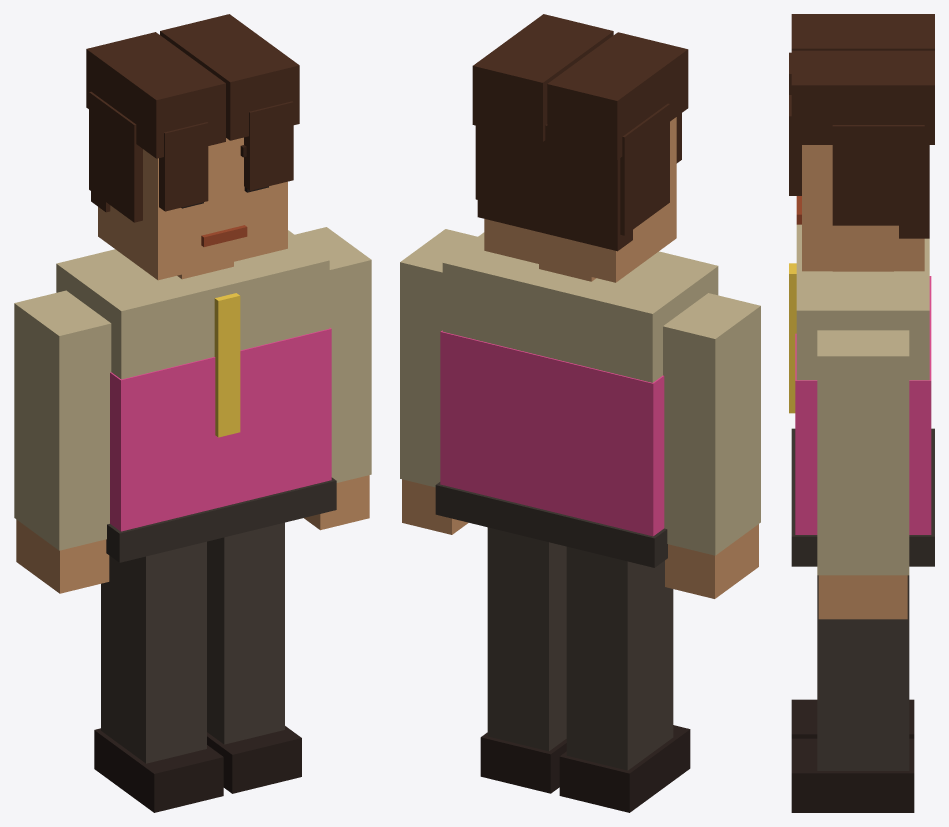
Rendered from middle_home_teacher.glb.
3 views of the same model, side by side, from view 1: azimuth 30°, elevation 25°; view 2: azimuth 150°, elevation 25°; view 3: azimuth 270°, elevation 25° (orthographic). The views are drawn at different scales.
Visible parts, largest first — view 1: Box10, Box7, Box9, Box5, Box1, Box14, Box23, Box3, Box20, Box12, Box6, Box25 (+6 smaller); view 2: Box10, Box9, Box7, Box5, Box1, Box26, Box23, Box3, Box20, Box12, Box14, Box6 (+4 smaller); view 3: Box3, Box1, Box20, Box9, Box22, Box14, Box10, Box2, Box23, Box4, Box12, Box6 (+3 smaller).
Boxes of the visible parts, left/top/right/bottom form: Box10: left=110, top=328, right=331, bottom=531; Box7: left=14, top=290, right=111, bottom=550; Box9: left=56, top=230, right=329, bottom=379; Box5: left=101, top=541, right=206, bottom=763; Box1: left=207, top=522, right=284, bottom=744; Box14: left=98, top=137, right=287, bottom=280; Box23: left=86, top=32, right=225, bottom=158; Box3: left=295, top=227, right=371, bottom=482; Box20: left=160, top=14, right=299, bottom=140; Box12: left=106, top=477, right=336, bottom=562; Box6: left=94, top=728, right=223, bottom=812; Box25: left=89, top=91, right=142, bottom=222; Box10: left=440, top=330, right=664, bottom=536; Box9: left=442, top=232, right=718, bottom=382; Box7: left=663, top=293, right=760, bottom=555; Box5: left=566, top=546, right=673, bottom=770; Box1: left=487, top=527, right=566, bottom=751; Box26: left=477, top=124, right=632, bottom=251; Box23: left=547, top=32, right=688, bottom=159; Box3: left=400, top=229, right=477, bottom=487; Box20: left=472, top=14, right=613, bottom=141; Box12: left=435, top=482, right=667, bottom=567; Box14: left=484, top=117, right=676, bottom=282; Box6: left=559, top=725, right=690, bottom=812; Box3: left=817, top=330, right=909, bottom=575; Box1: left=817, top=575, right=909, bottom=770; Box20: left=791, top=50, right=934, bottom=144; Box9: left=796, top=224, right=929, bottom=380; Box22: left=832, top=125, right=924, bottom=225; Box14: left=802, top=145, right=924, bottom=271; Box10: left=795, top=276, right=931, bottom=534; Box2: left=791, top=738, right=914, bottom=812; Box23: left=791, top=14, right=934, bottom=50; Box4: left=818, top=575, right=907, bottom=619; Box12: left=791, top=428, right=934, bottom=566; Box6: left=791, top=699, right=914, bottom=738.
Size of the model in its own units: 0.8165 by 1.78 by 0.3232.
